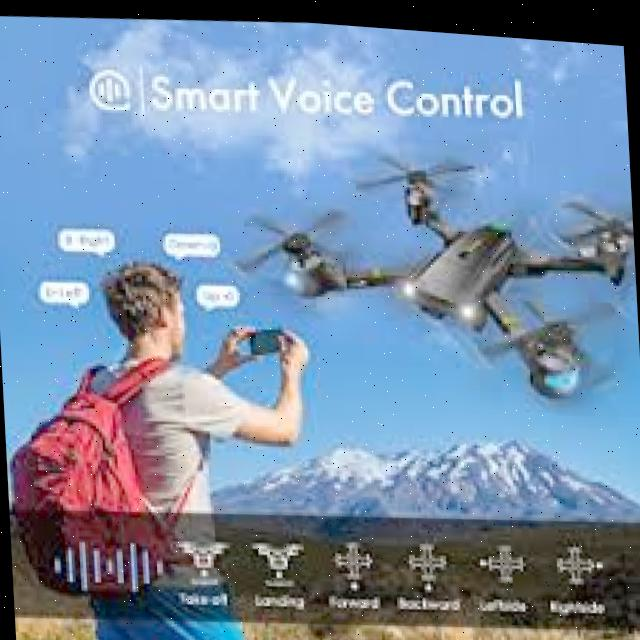drone: (221, 114, 640, 425)
